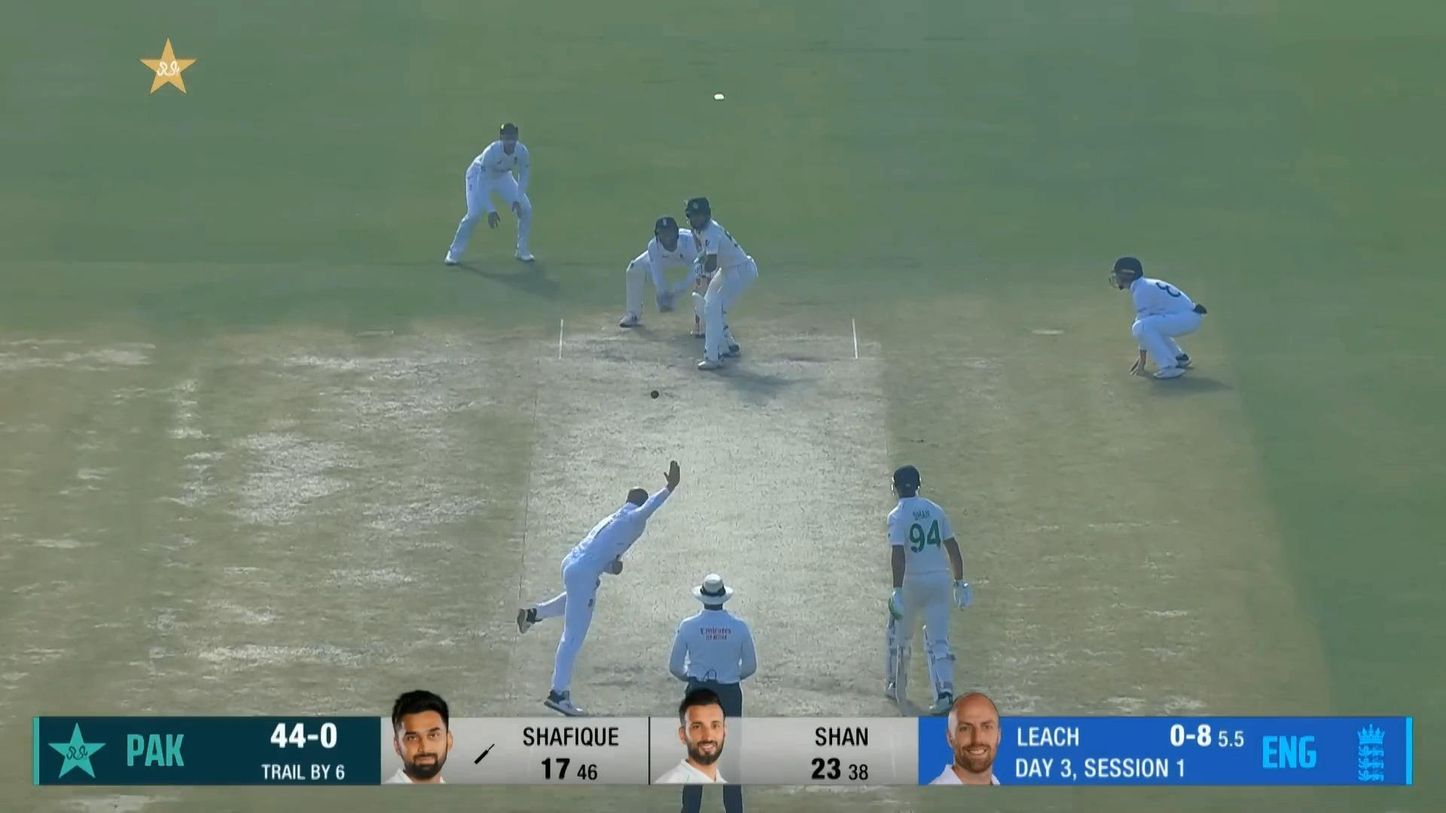BM 1: (683, 196, 760, 372)
BO: (515, 459, 684, 717)
